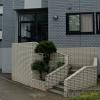stairs: (48, 66, 84, 96)
